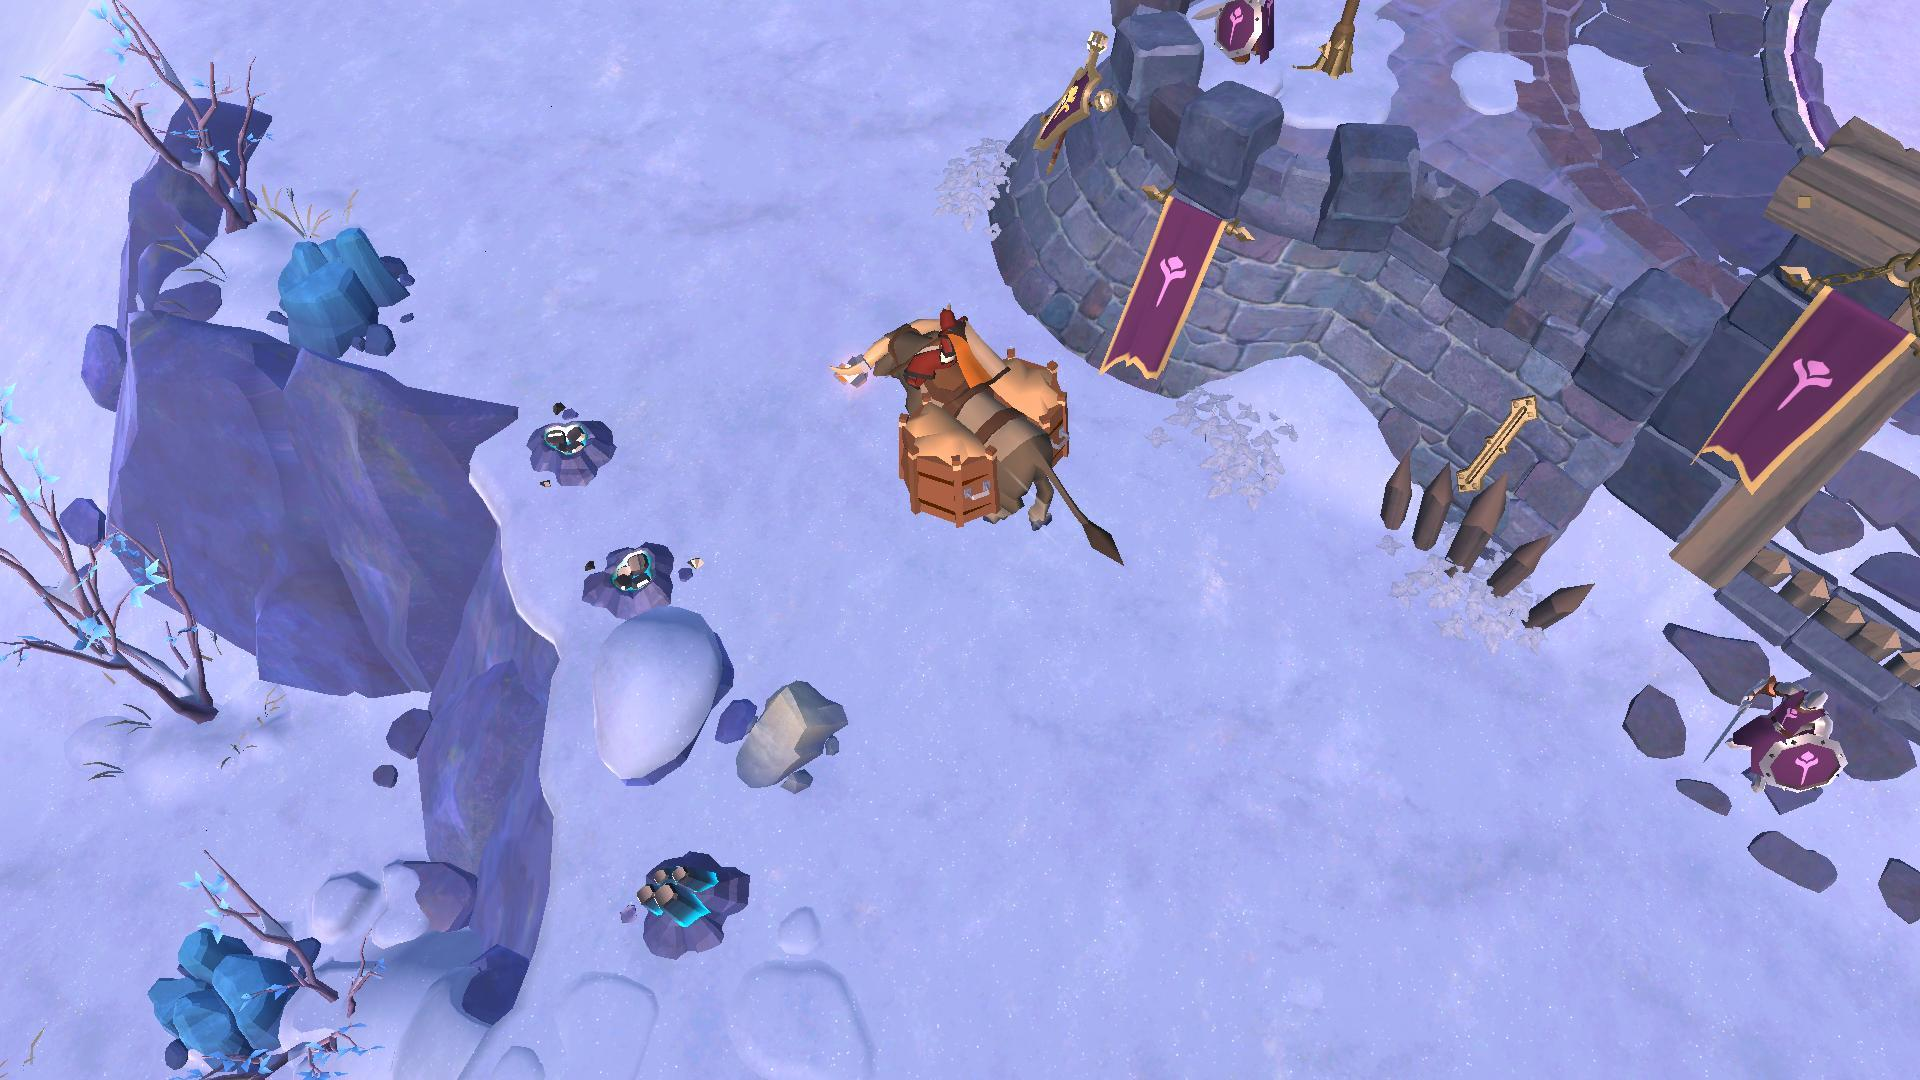ore_t4: (630, 857, 720, 931)
rock_t4: (146, 924, 303, 1075), (272, 233, 410, 369)
